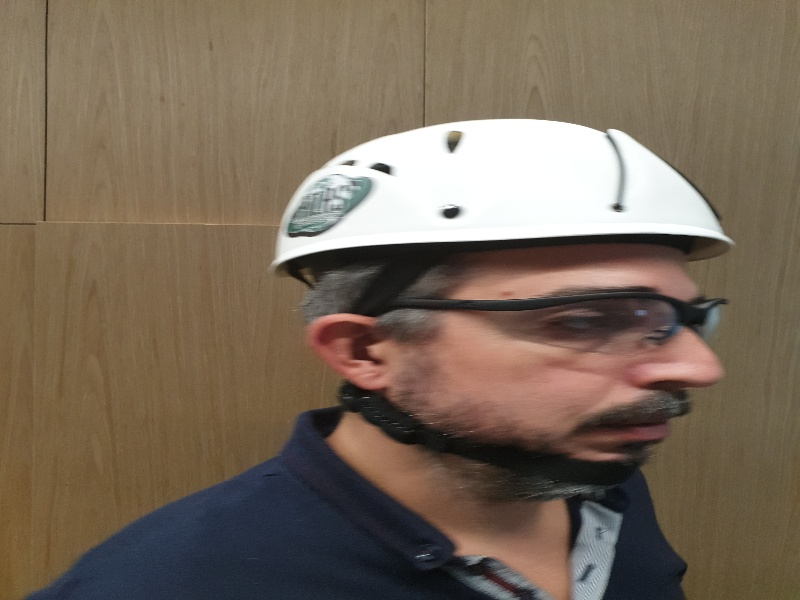Baret: (273, 119, 732, 257)
Gozluk: (387, 294, 730, 357)
